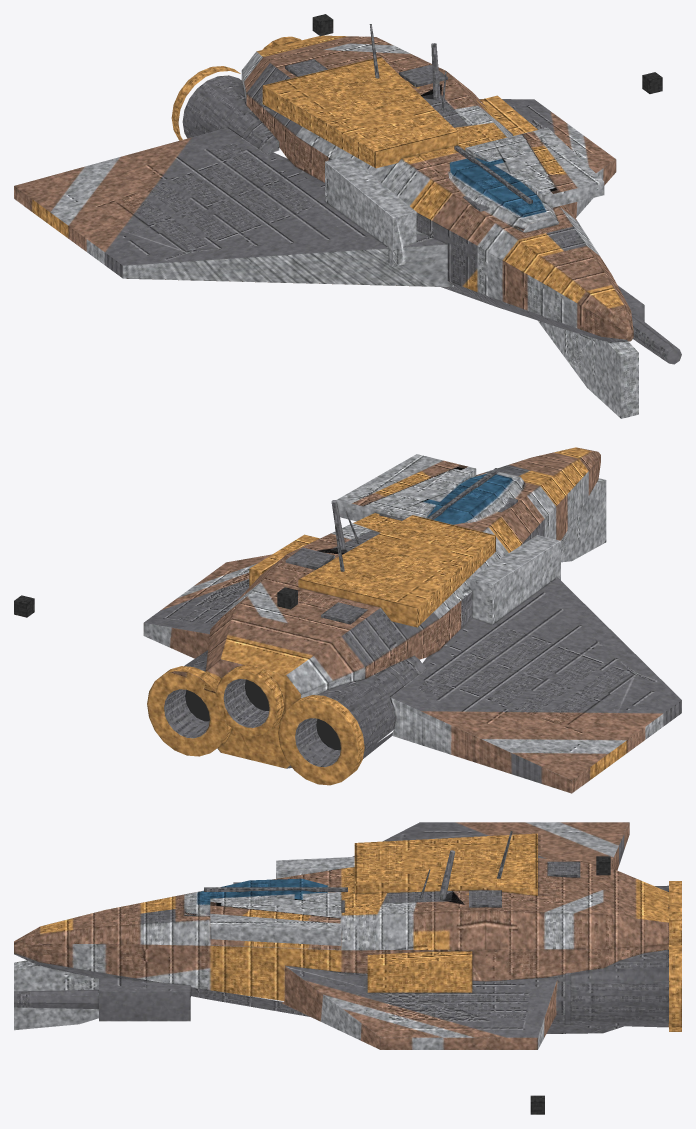
The model's file is sd_npc_reaver.glb.
3 renders of one model, top to bottom at view 1: azimuth 30°, elevation 25°; view 2: azimuth 150°, elevation 25°; view 3: azimuth 270°, elevation 25°, orthographic. The views are drawn at different scales.
Visible parts, largest first — view 1: LOD0_body, LOD1_body; view 2: LOD0_body, LOD1_body; view 3: LOD0_body, LOD1_body.
Boxes of the visible parts, box(x1,y1,x2,y2) form: LOD0_body: box(14, 14, 681, 418); LOD1_body: box(14, 14, 662, 373); LOD0_body: box(14, 447, 681, 793); LOD1_body: box(14, 462, 681, 793); LOD0_body: box(14, 822, 681, 1114); LOD1_body: box(14, 822, 675, 1114).
Bounding box in the file's own units: 0.9912 × 0.3221 × 1.
1 material, 1 textured.
